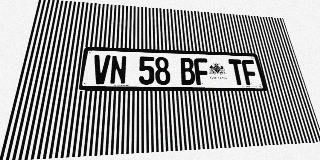5: (139, 56, 155, 85)
8: (155, 57, 171, 85)
B: (179, 58, 196, 85)
F: (193, 58, 211, 85), (241, 60, 259, 85)
N: (109, 55, 127, 85)
T: (228, 59, 246, 85)
V: (92, 55, 111, 84)
